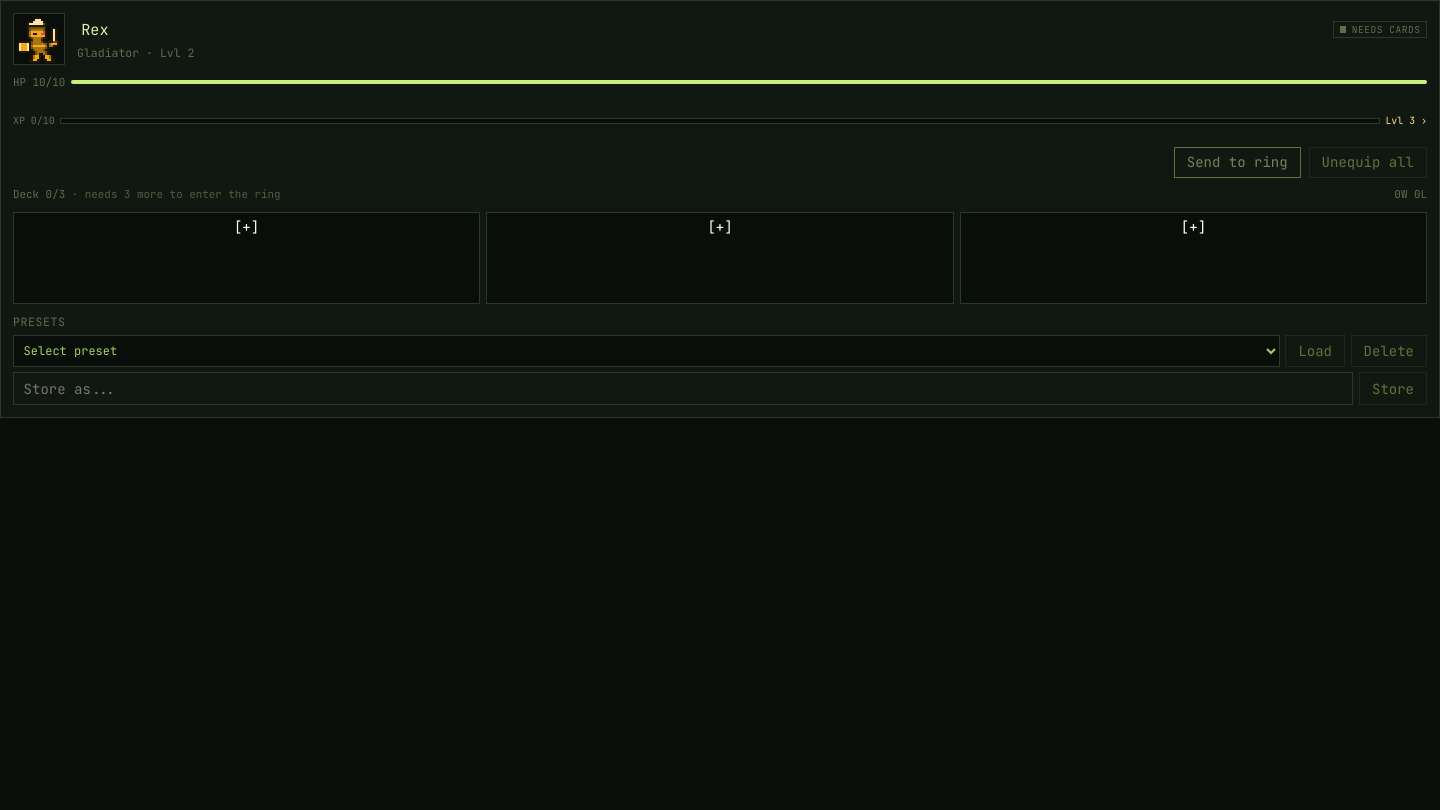
Test: level-up details from the XP bar (bug 225) › opens from the XP bar, which says which level it opens
The width and height of the screenshot is (1440, 810).
Expected: the text "Lvl 3 ›" is shown, [1385,114,1427,128]
Step 1. Click the button with aria-label "See what level 3 brings" → (720, 121), box [13,105,1427,137]
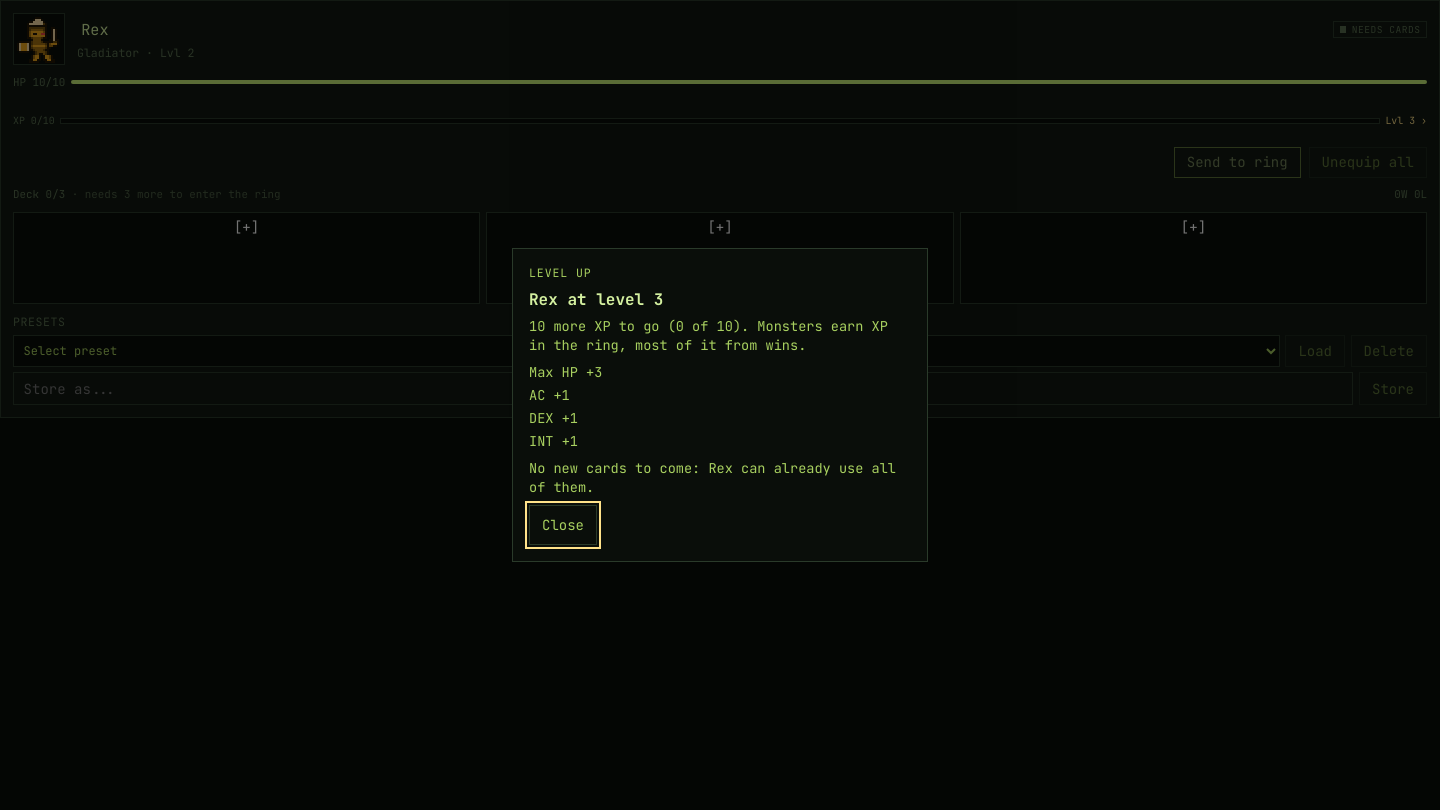
Now the heading "Rex at level 3" is shown, box [529,289,663,310]
